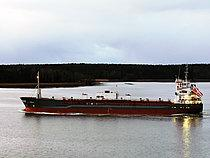Ship: (18, 78, 208, 119)
